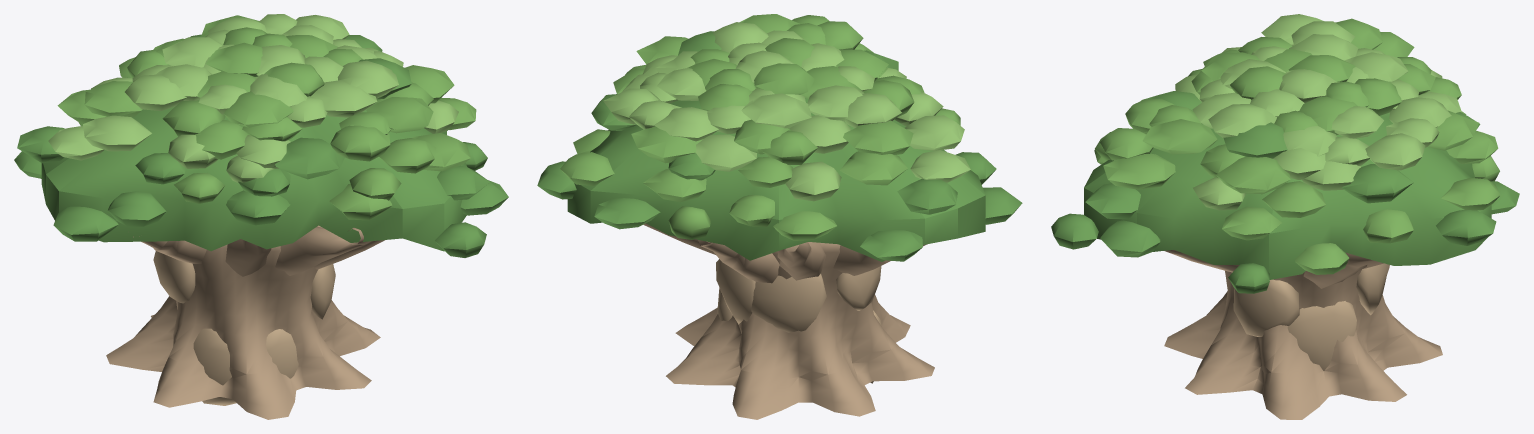
The model's file is wdw-tree-of-life.glb.
3 renders of one model, left to right at view 1: azimuth 30°, elevation 25°; view 2: azimuth 150°, elevation 25°; view 3: azimuth 270°, elevation 25°, orthographic.
Parts seen in each view (by area): view 1: The Tree of Life; view 2: The Tree of Life; view 3: The Tree of Life.
Boxes of the visible parts, x1,y1,x2,y2 form: The Tree of Life: (14, 14, 508, 419); The Tree of Life: (537, 14, 1022, 419); The Tree of Life: (1051, 14, 1519, 419).
Bounding box in the file's own units: 62.79 × 46.51 × 61.33.
